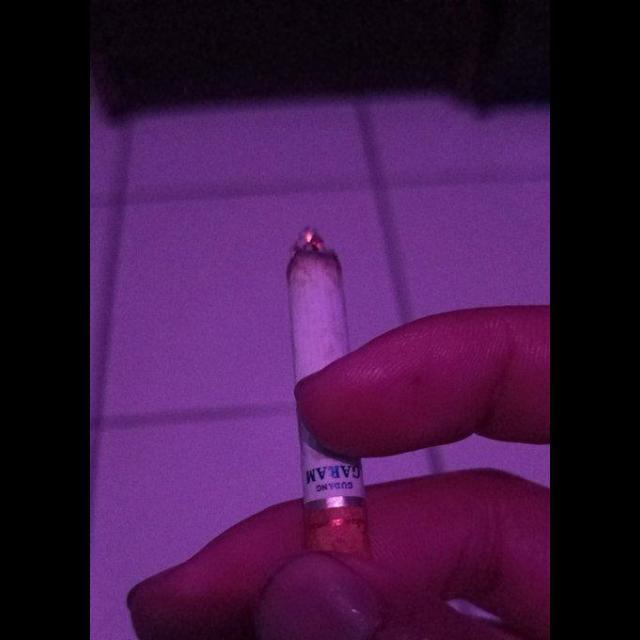rokok: (284, 228, 380, 568)
